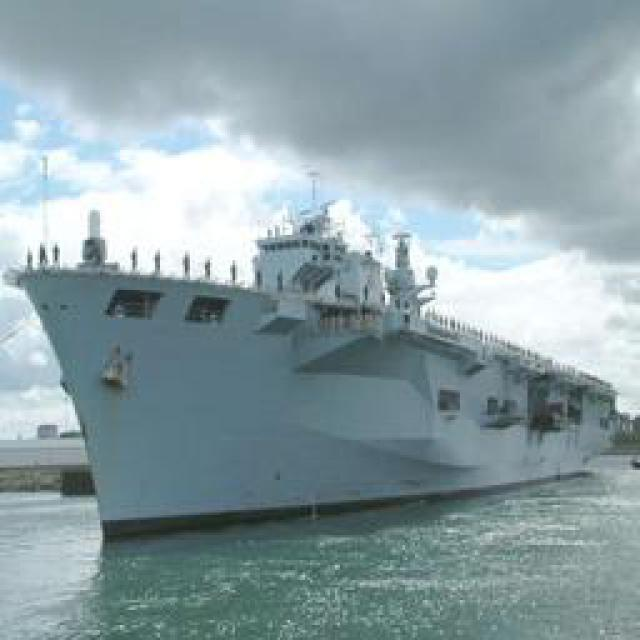Ship: (31, 241, 609, 531)
